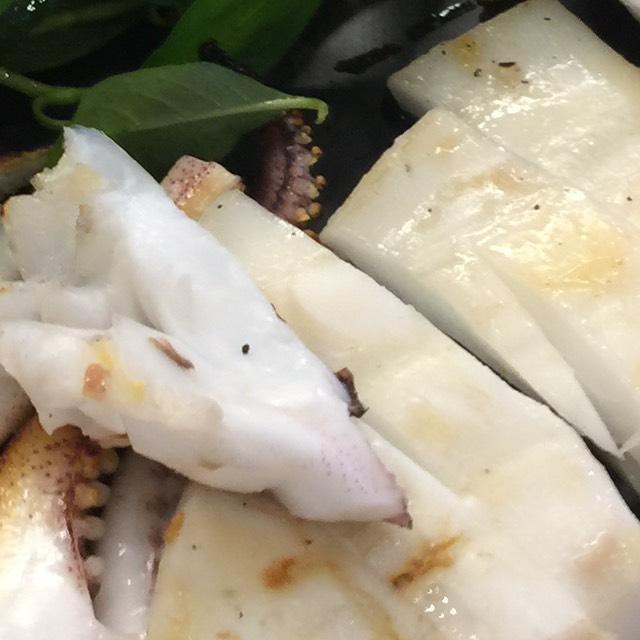muc: (121, 138, 640, 640), (0, 74, 344, 640), (0, 114, 434, 543), (302, 98, 640, 640), (378, 0, 640, 543), (126, 438, 618, 640)
rau ram: (0, 0, 640, 453)
